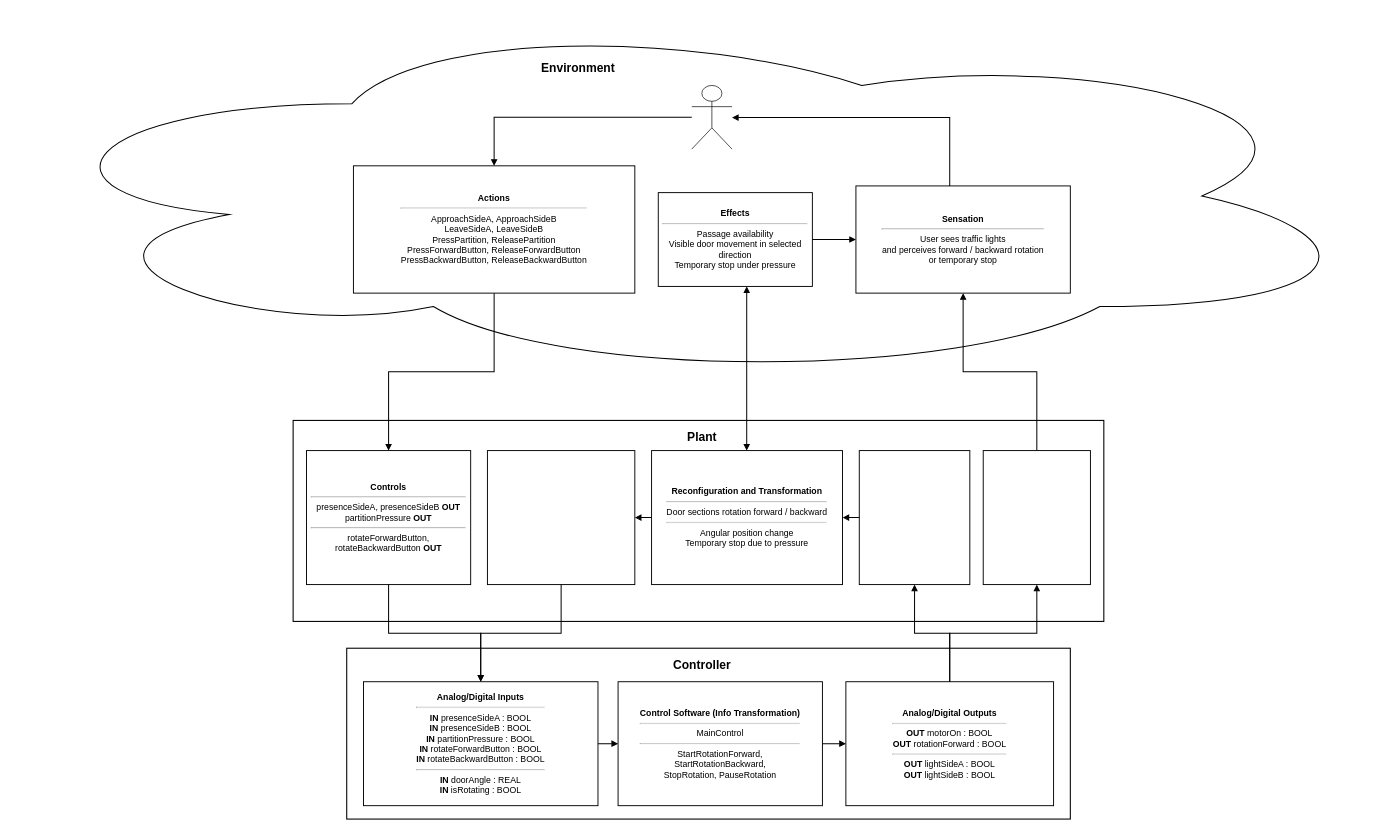
This 1384x831 diagram has some shape labels left out. Each missing label, with the box of its shape:
Actuators (motor) IN motorOn, rotationForward TO Plant: (858, 450, 970, 585)
Indicators (traffic lights) IN lightSideA, lightSideB OUT: (982, 450, 1091, 585)
Sensors Plant FROM angle / motion sensors doorAngle, isRotating OUT: (487, 450, 635, 585)
Users: (691, 85, 732, 149)
